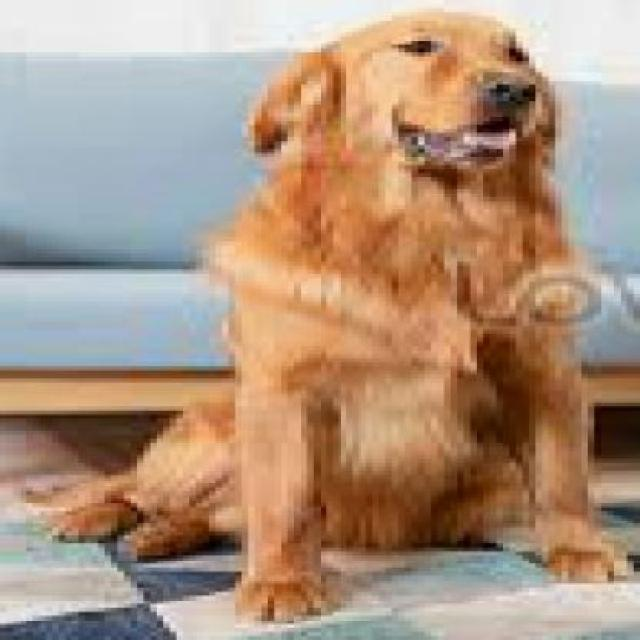Dog: (38, 4, 634, 624)
